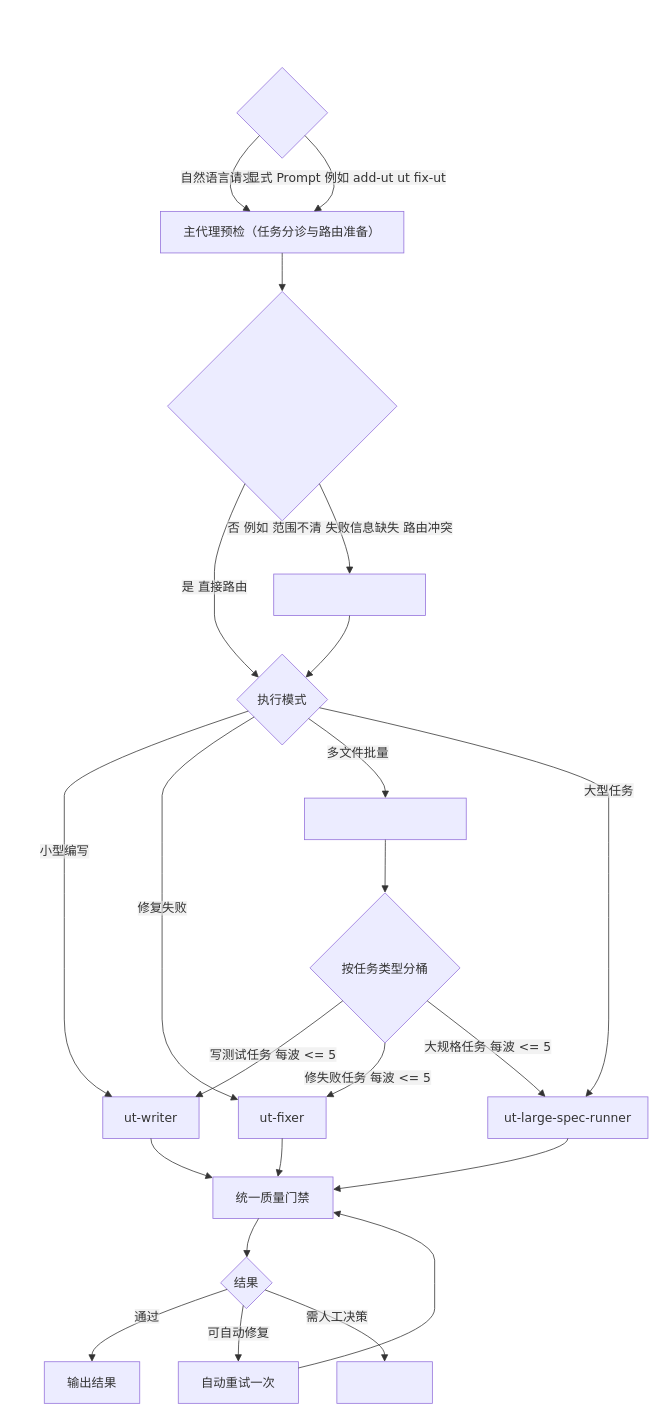
The diagram is 661 pixels wide and 1417 high, and some of its shapes have lost their labels. Here are the shapes that lost their labels. From the top down, the box of each, then its label:
(236, 67, 328, 158): 触发来源
(167, 291, 397, 521): 信息是否充分且规则明确
(273, 573, 425, 616): ut-expert 补充判断
(304, 797, 466, 840): ut-batch-coordinator
(336, 1361, 432, 1403): 上报用户
